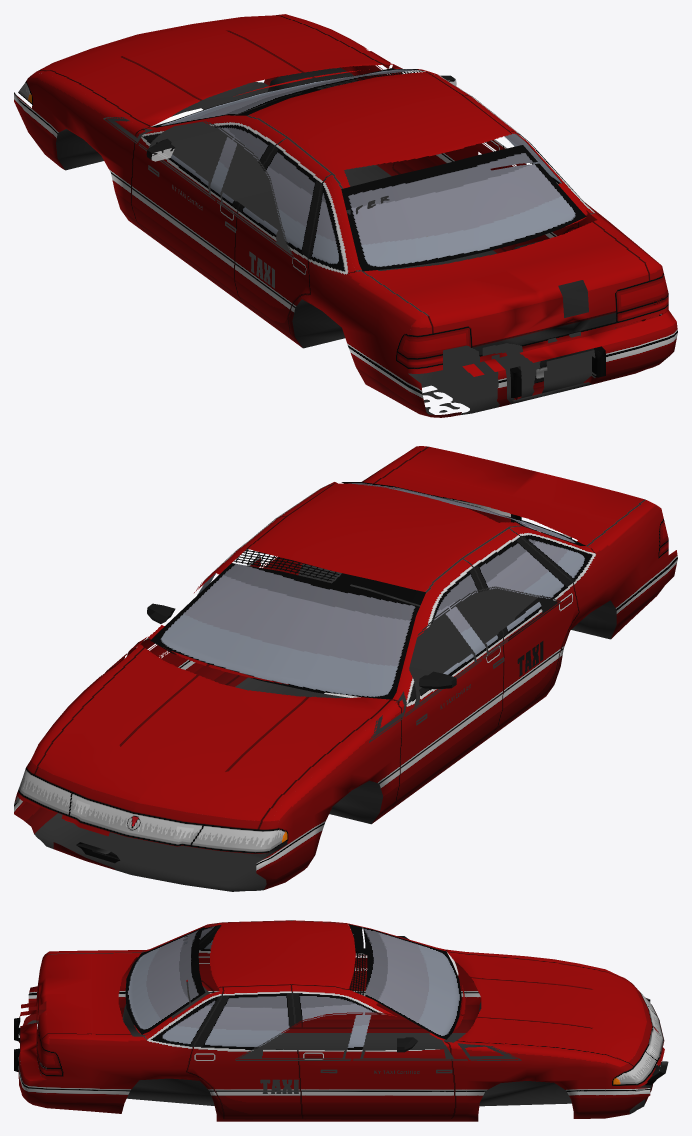
File: 91grandpresedan.fbx
3 views of the same model, one above another, from view 1: azimuth 30°, elevation 25°; view 2: azimuth 150°, elevation 25°; view 3: azimuth 270°, elevation 25° (orthographic). The views are drawn at different scales.
Parts seen in each view (by area): view 1: 91grandprix; view 2: 91grandprix; view 3: 91grandprix.
Boxes of the visible parts, x1=… form: 91grandprix: x1=14, y1=14, x2=677, y2=417; 91grandprix: x1=14, y1=446, x2=677, y2=891; 91grandprix: x1=14, y1=920, x2=668, y2=1121.
Bounding box in the file's own units: 2.19 × 1.17 × 5.5.
